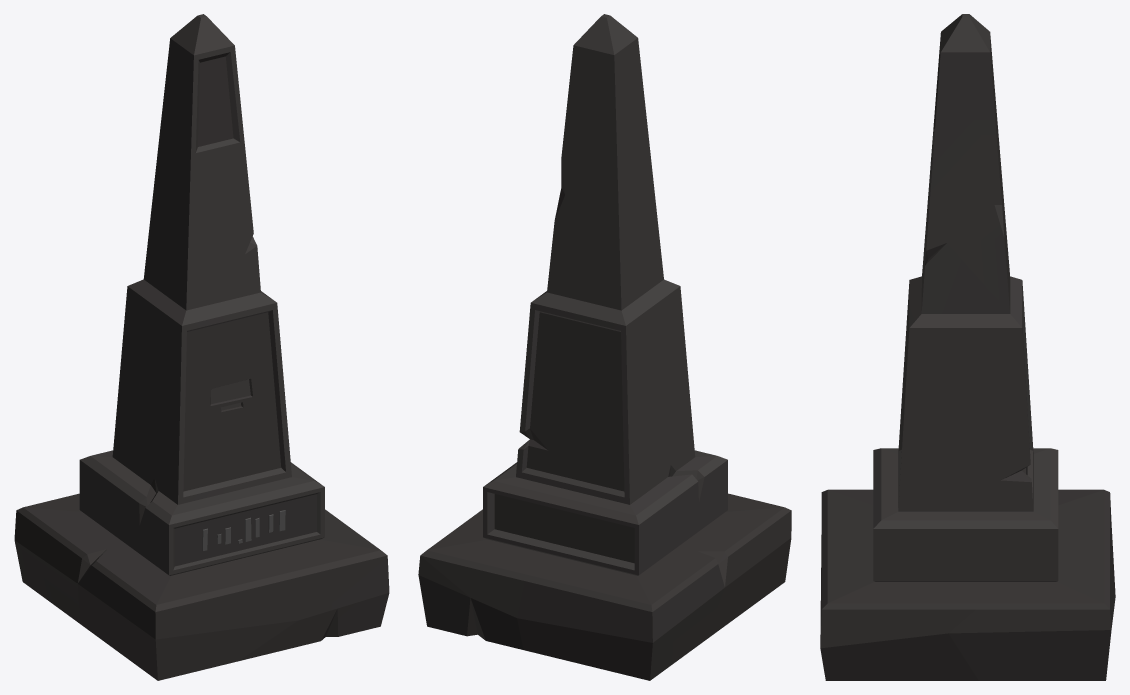
File: TombTwo.fbx
3 renders of one model, left to right at view 1: azimuth 30°, elevation 25°; view 2: azimuth 150°, elevation 25°; view 3: azimuth 270°, elevation 25°, orthographic. The views are drawn at different scales.
Visible parts, largest first — view 1: gravestone_old_tower__3_; view 2: gravestone_old_tower__3_; view 3: gravestone_old_tower__3_.
Boxes of the visible parts, left/top/right/bottom form: gravestone_old_tower__3_: left=14, top=14, right=389, bottom=680; gravestone_old_tower__3_: left=418, top=14, right=791, bottom=680; gravestone_old_tower__3_: left=820, top=14, right=1115, bottom=680.
Bounding box in the file's own units: 3758 × 8679 × 3811.
